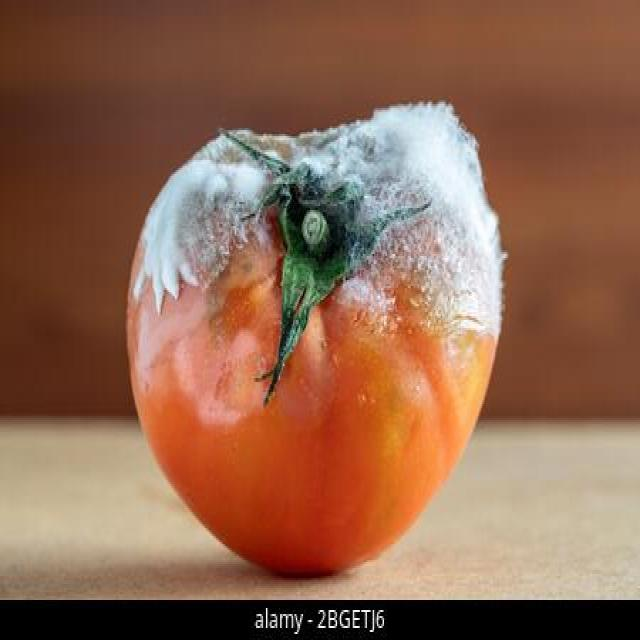Rotten: (127, 95, 504, 572)
